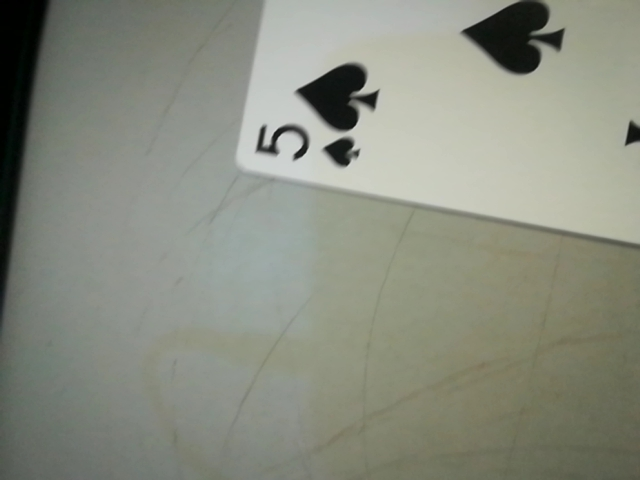ht 5: (237, 93, 387, 186)
